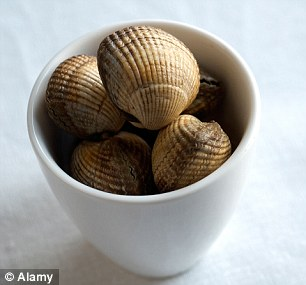cockle: (95, 23, 200, 132), (45, 53, 126, 143), (148, 111, 231, 189), (70, 131, 154, 196)
